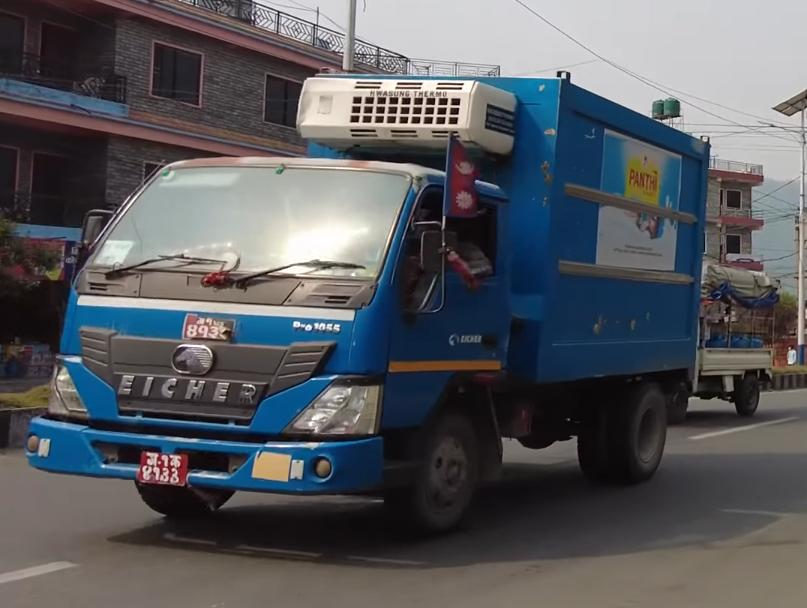mini_truck: (8, 54, 703, 538)
transport_vehicle: (690, 256, 781, 426)
